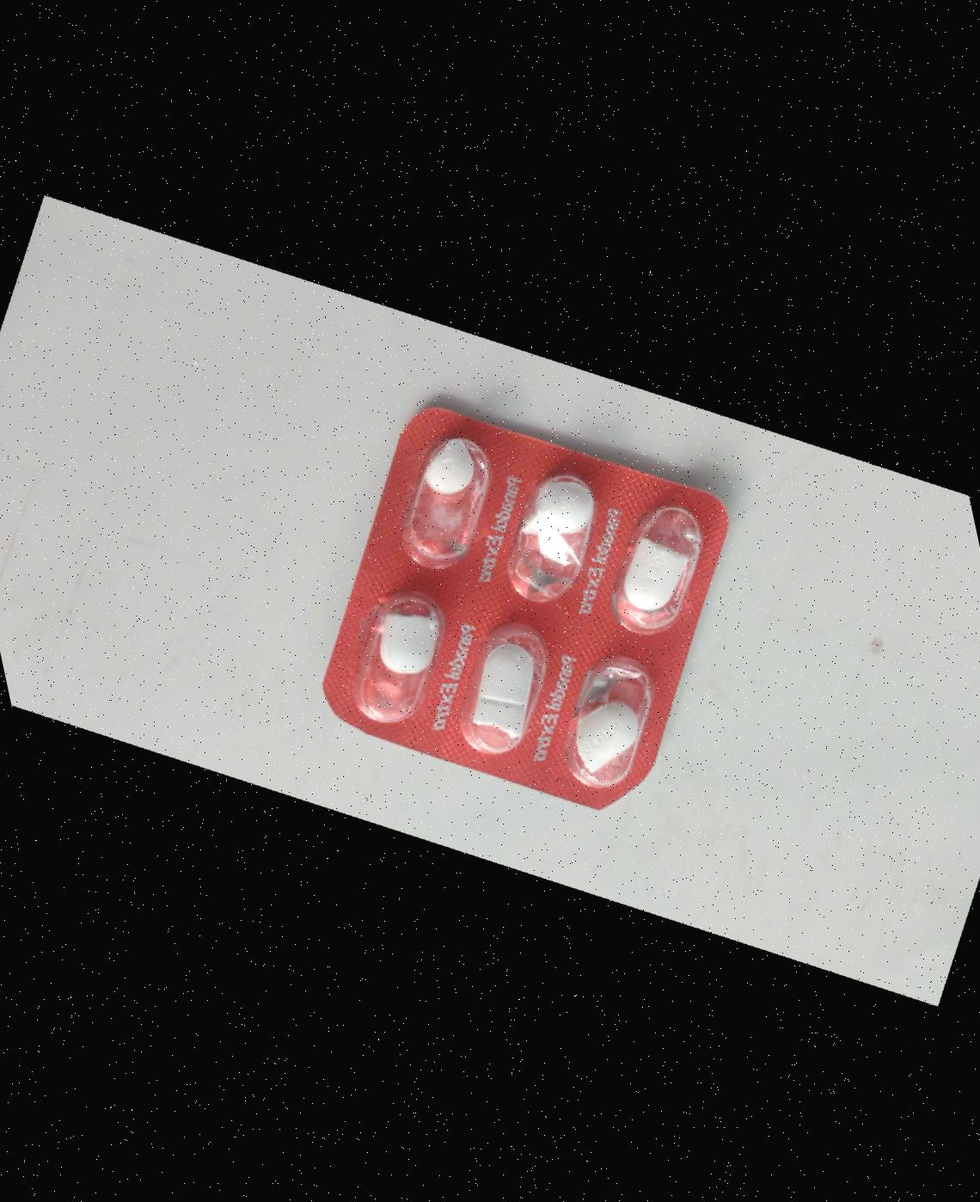Partial: (343, 584, 459, 748), (503, 456, 619, 620), (553, 654, 669, 818), (390, 421, 506, 585), (454, 611, 570, 774), (602, 489, 718, 652)
